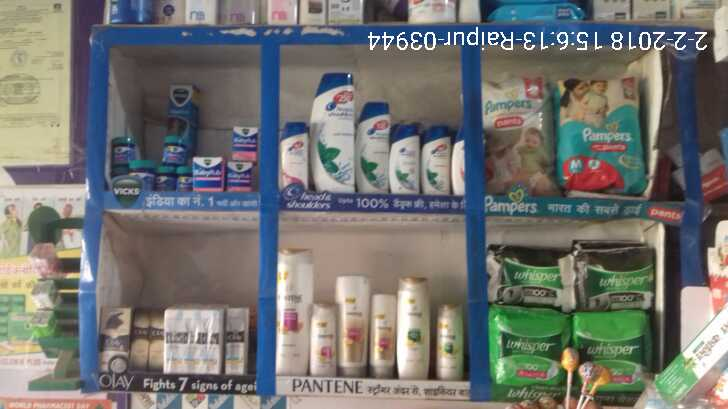beauty: (307, 71, 356, 196), (160, 309, 249, 375), (274, 247, 311, 374), (398, 269, 429, 380), (356, 95, 388, 196), (337, 271, 369, 370), (274, 115, 308, 196), (417, 123, 452, 197), (308, 301, 339, 383), (435, 302, 466, 383), (97, 301, 132, 372), (370, 295, 398, 381), (390, 117, 419, 196)
pharmacy: (556, 67, 648, 196), (477, 68, 557, 198), (487, 304, 573, 392), (483, 238, 577, 312), (569, 307, 650, 390), (574, 236, 656, 313), (129, 161, 191, 195), (190, 157, 225, 193), (225, 158, 251, 196), (106, 134, 134, 167), (232, 126, 260, 159), (161, 135, 187, 164)
